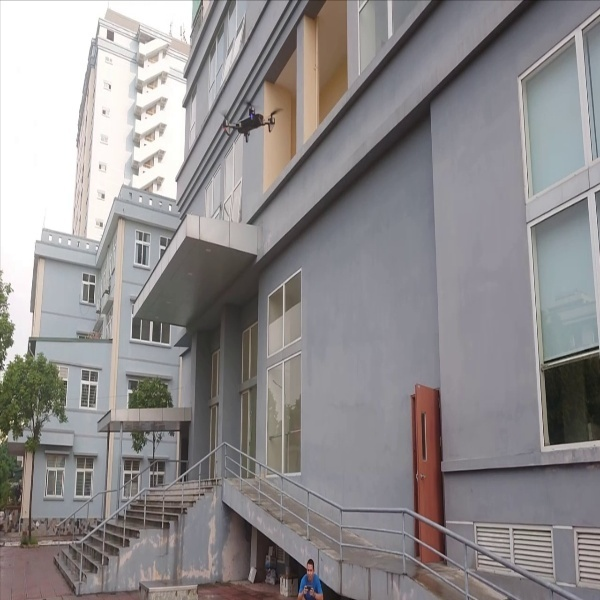drone: (216, 97, 284, 149)
